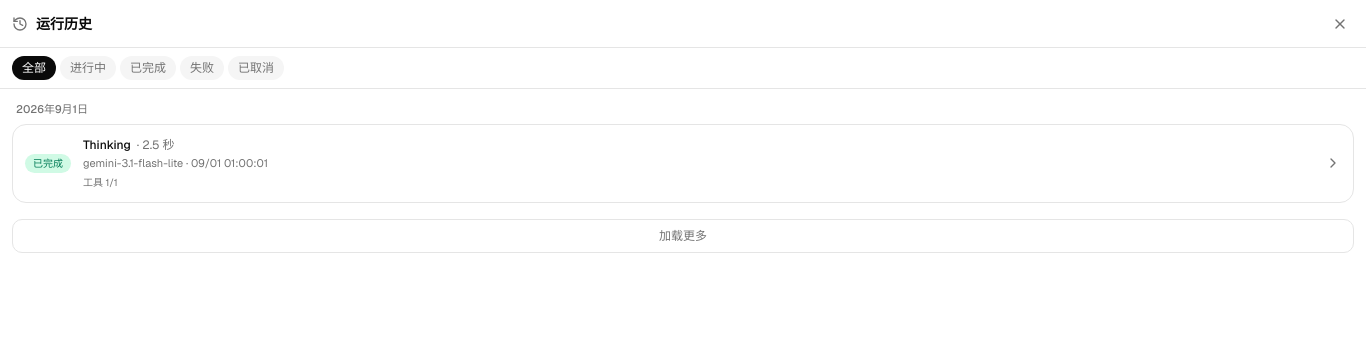
Test: RunHistoryPanel › filters runs and loads the next page
Check: the text "gemini-3.1-flash-lite · 09/01 01:00:01" is shown, box [83,156,268,170]
Click the button "失败" at (202, 68), box [180,56,224,80]
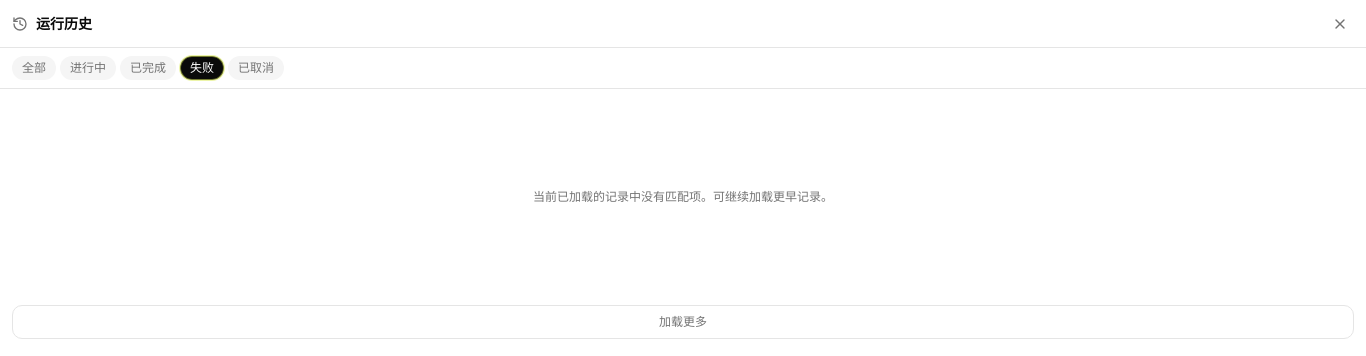
Check: the text "当前已加载的记录中没有匹配项。可继续加载更早记录。" is shown, box [533,189,833,205]
Click the button "加载更多" at (683, 322), box [12,305,1354,339]
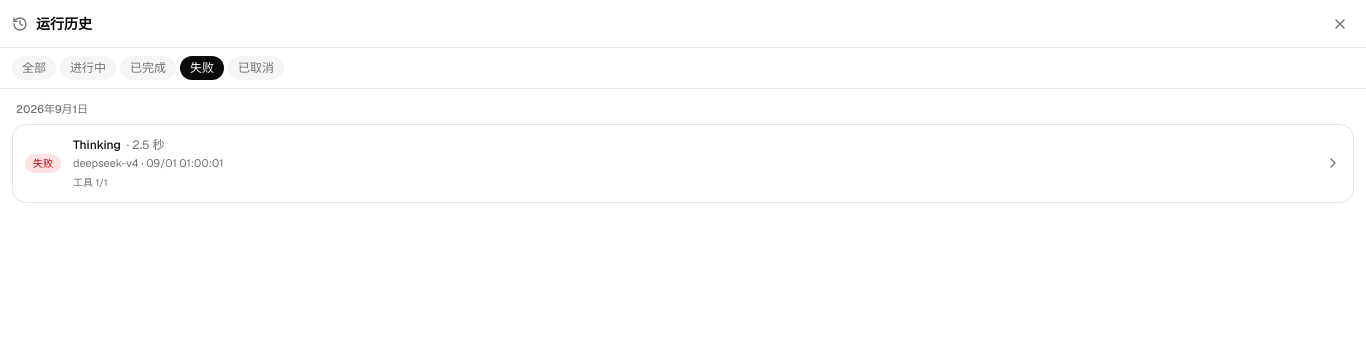
Check: the button "gemini-3.1-flash-lite" is not shown
Check: the text "deepseek-v4 · 09/01 01:00:01" is shown, box [73,156,223,170]
